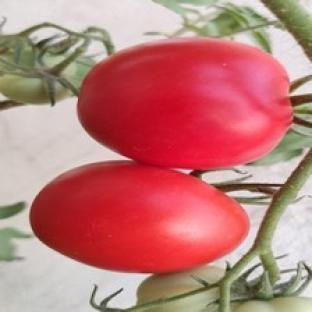Tomato: (78, 38, 292, 168), (31, 161, 249, 272), (137, 267, 224, 305), (0, 73, 51, 104), (233, 297, 311, 311)
